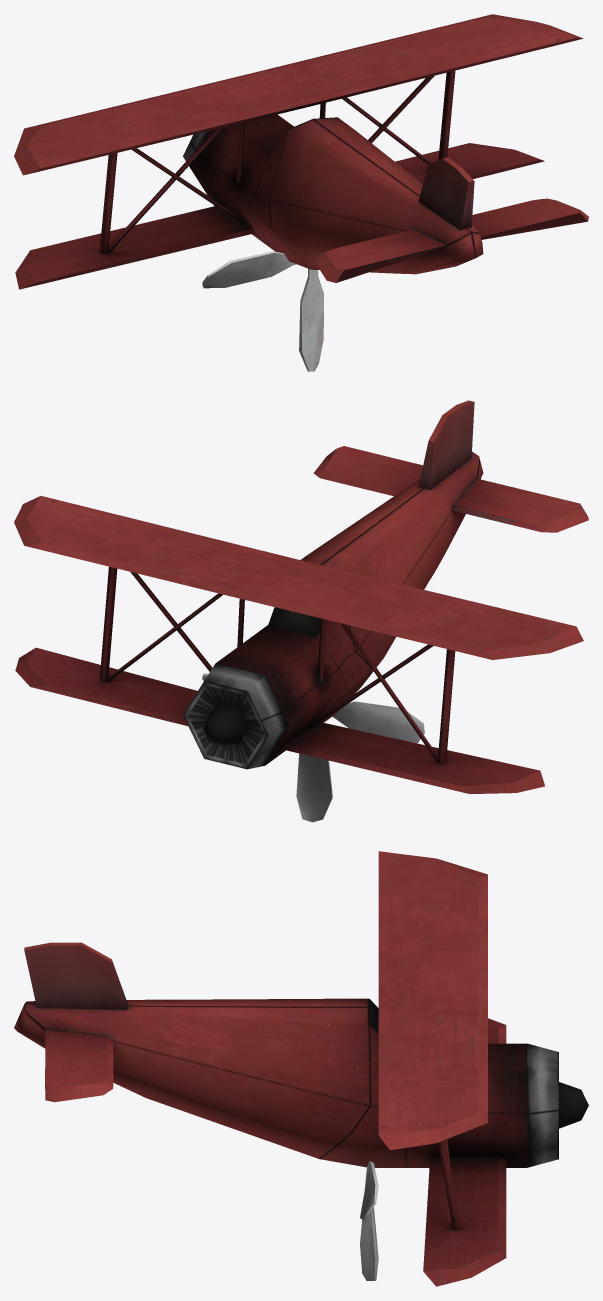
The model's file is BiPlane.fbx.
The picture shows the model from 3 angles, top to bottom: view 1: azimuth 30°, elevation 25°; view 2: azimuth 150°, elevation 25°; view 3: azimuth 270°, elevation 25°; orthographic projection. The views are drawn at different scales.
Parts seen in each view (by area): view 1: BIPlane, Properller; view 2: BIPlane, Properller; view 3: BIPlane, Properller.
Part boxes in pixels (left/top/right/bottom): BIPlane: left=14, top=14, right=588, bottom=289; Properller: left=202, top=251, right=323, bottom=371; BIPlane: left=14, top=400, right=588, bottom=793; Properller: left=202, top=673, right=424, bottom=822; BIPlane: left=14, top=851, right=588, bottom=1286; Properller: left=360, top=1161, right=378, bottom=1280.
Size of the model in its own units: 592 by 313 by 484.
